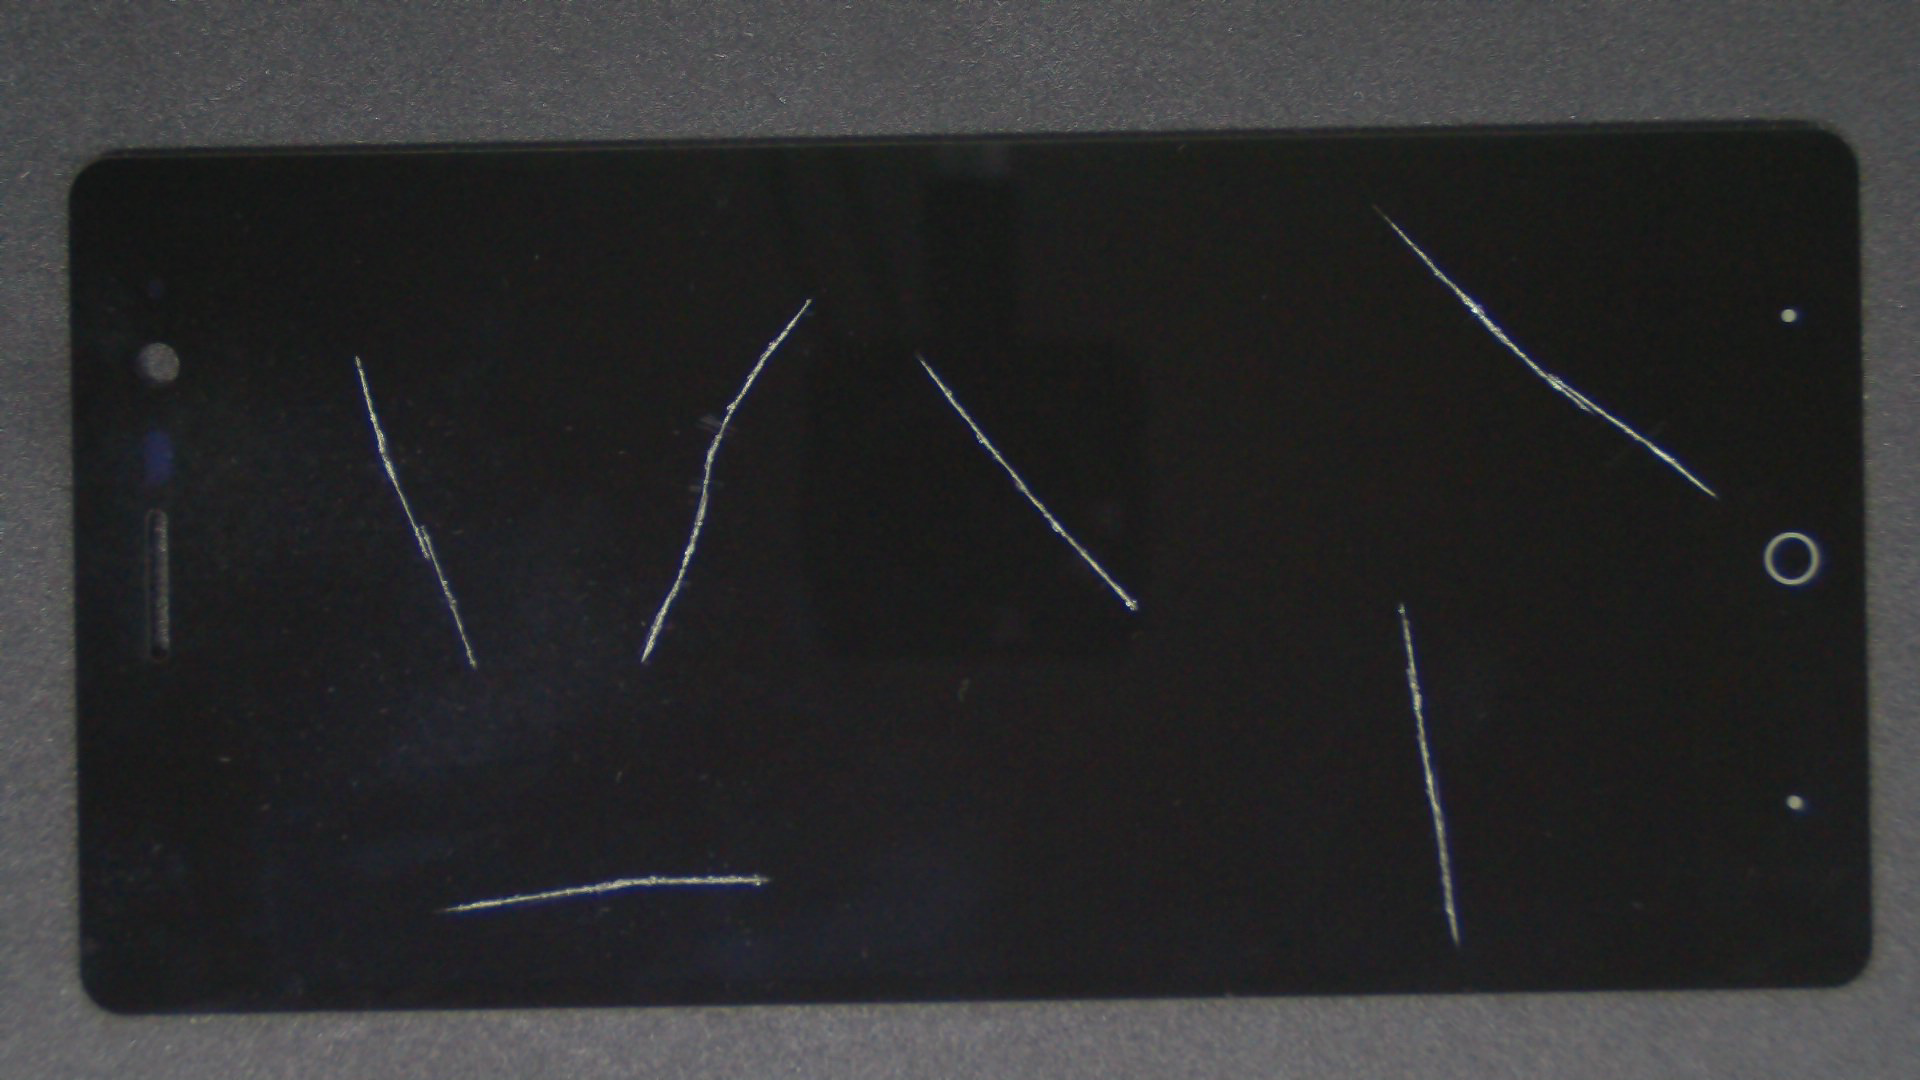defect: (1382, 214, 1717, 498), (638, 298, 814, 663), (918, 359, 1139, 612), (353, 353, 479, 671), (1396, 603, 1460, 945), (438, 873, 773, 913)
